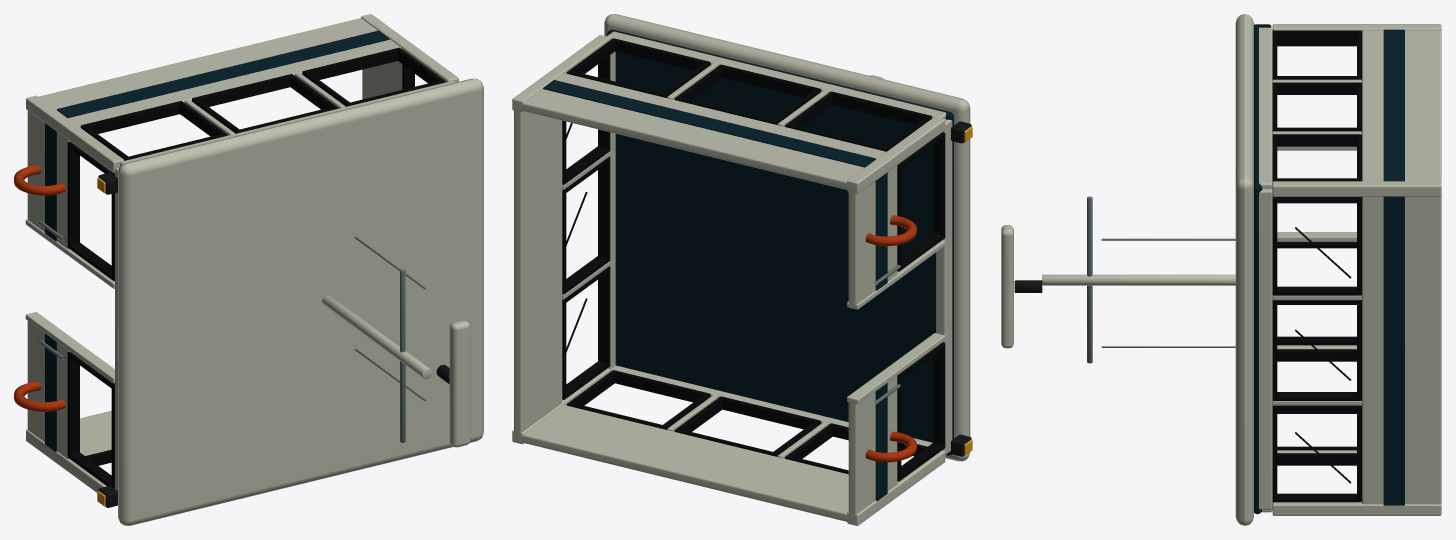
File: SM_Wheelhouse.obj
The picture shows the model from 3 angles, left to right: view 1: azimuth 30°, elevation 25°; view 2: azimuth 150°, elevation 25°; view 3: azimuth 270°, elevation 25°; orthographic projection. The views are drawn at different scales.
Parts seen in each view (by area): view 1: SM_Wheelhouse; view 2: SM_Wheelhouse; view 3: SM_Wheelhouse.
Boxes of the visible parts, x1=… form: SM_Wheelhouse: x1=14, y1=14, x2=483, y2=525; SM_Wheelhouse: x1=512, y1=14, x2=972, y2=525; SM_Wheelhouse: x1=1001, y1=14, x2=1441, y2=525.
Bounding box in the file's own units: 542 × 485 × 557.
